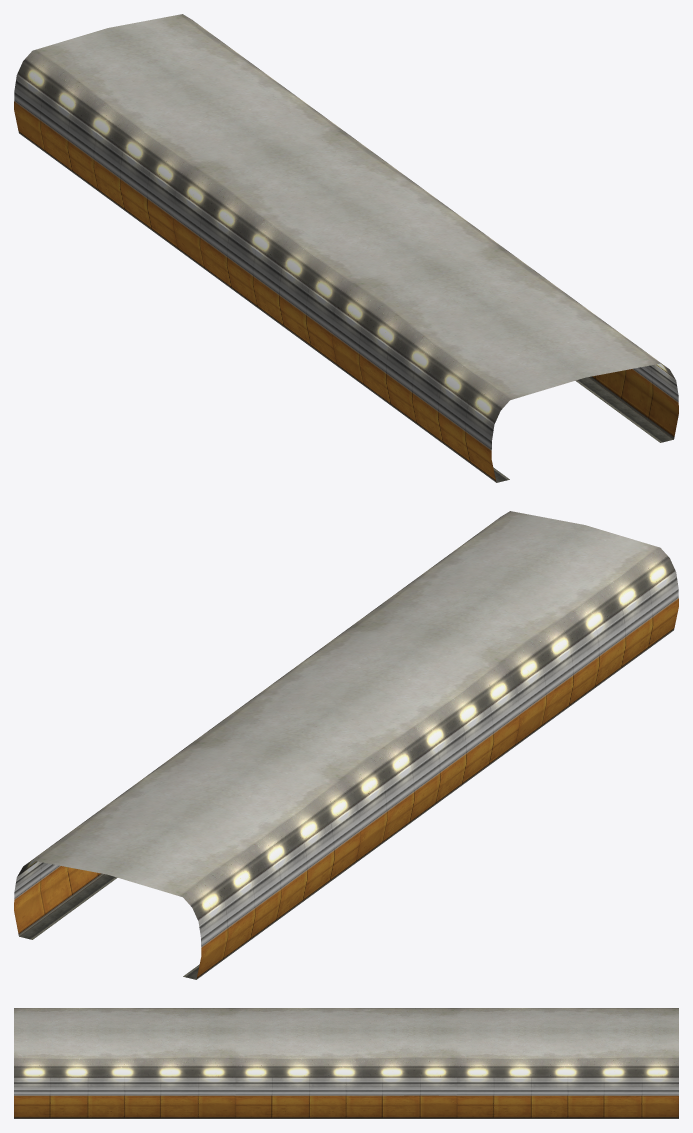
Rendered from tunnel.fbx.
3 renders of one model, top to bottom at view 1: azimuth 30°, elevation 25°; view 2: azimuth 150°, elevation 25°; view 3: azimuth 270°, elevation 25°, orthographic. The views are drawn at different scales.
Visible parts, largest first — view 1: tunnel; view 2: tunnel; view 3: tunnel.
Boxes of the visible parts, x1=… form: tunnel: x1=14, y1=14, x2=678, y2=482; tunnel: x1=14, y1=511, x2=678, y2=979; tunnel: x1=14, y1=1008, x2=678, y2=1118.
Bounding box in the file's own units: 2265 × 966 × 10000.
